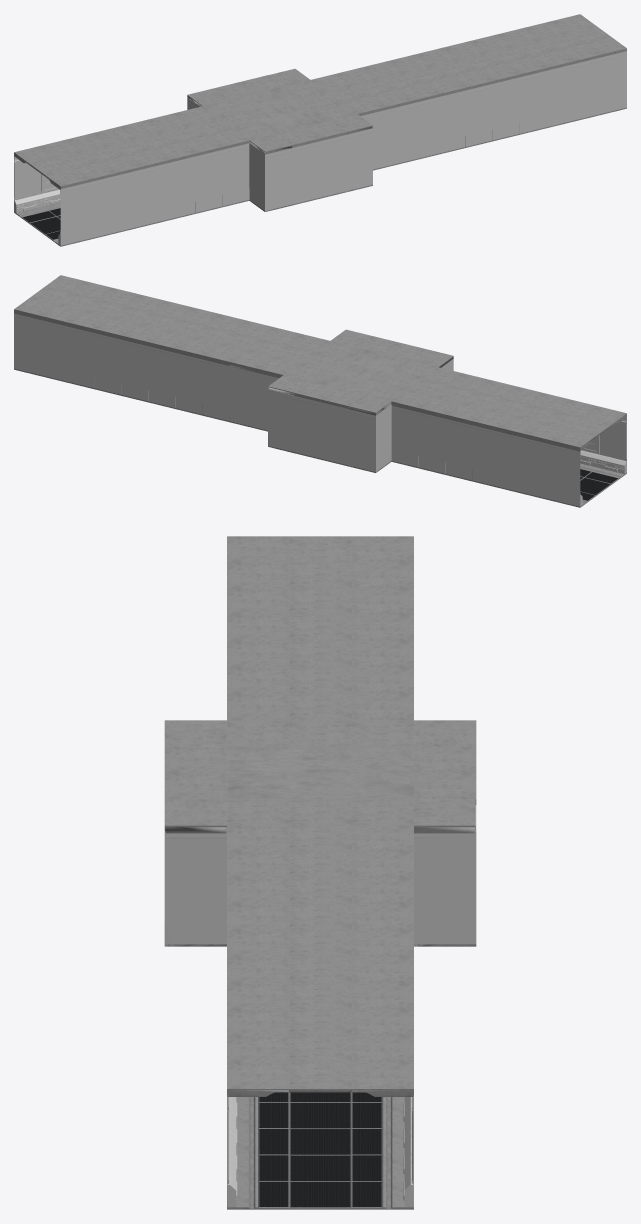
The model's file is Pasillo10Opti.fbx.
3 renders of one model, top to bottom at view 1: azimuth 30°, elevation 25°; view 2: azimuth 150°, elevation 25°; view 3: azimuth 270°, elevation 25°, orthographic. The views are drawn at different scales.
Parts seen in each view (by area): view 1: SM_Wall_AA__12_, SM_Ceiling_Center__4_, SM_Floor_Center__12_; view 2: SM_Wall_AA__12_, SM_Ceiling_Center__4_, SM_Floor_Center__12_; view 3: SM_Ceiling_Center__4_, SM_Floor_Center__12_, SM_Wall_AA__12_.
Boxes of the visible parts, x1,y1,x2,y2 form: SM_Wall_AA__12_: [14, 51, 626, 245]; SM_Ceiling_Center__4_: [14, 14, 626, 189]; SM_Floor_Center__12_: [14, 107, 626, 246]; SM_Wall_AA__12_: [14, 313, 626, 506]; SM_Ceiling_Center__4_: [14, 275, 626, 451]; SM_Floor_Center__12_: [14, 368, 626, 507]; SM_Ceiling_Center__4_: [164, 536, 476, 1096]; SM_Floor_Center__12_: [164, 944, 476, 1209]; SM_Wall_AA__12_: [164, 805, 476, 1207].
Bounding box in the file's own units: 420 × 42.8 × 100.
